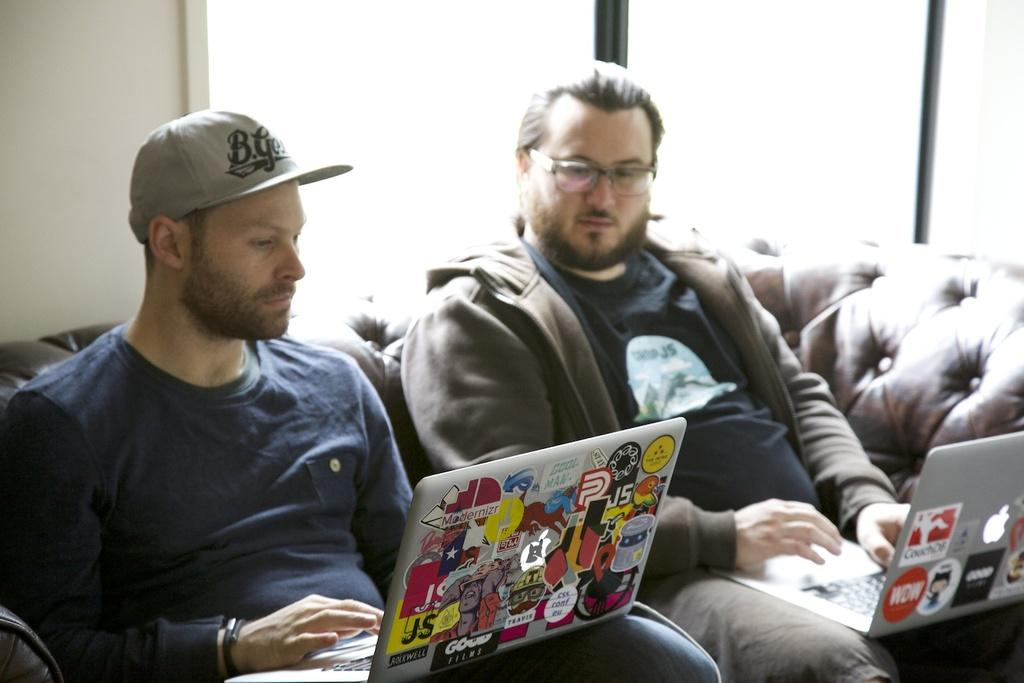Hat: (124, 103, 353, 240)
